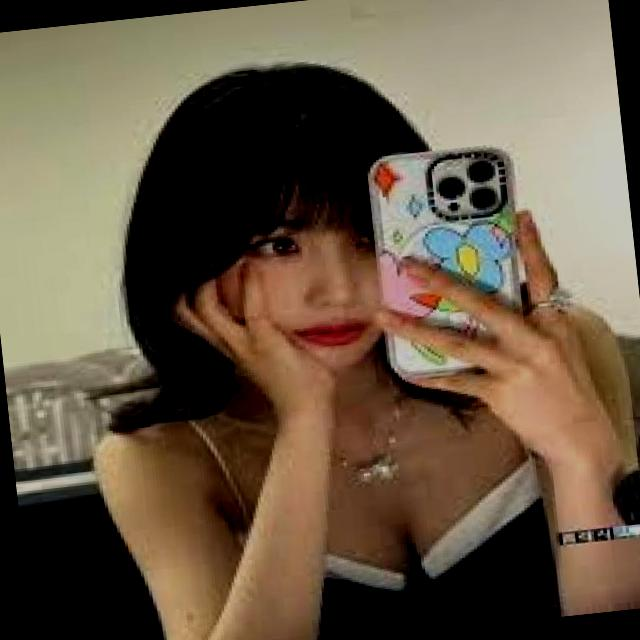lens_back: (463, 155, 499, 186), (466, 182, 501, 212), (437, 174, 468, 201)
phone: (362, 137, 534, 396)
